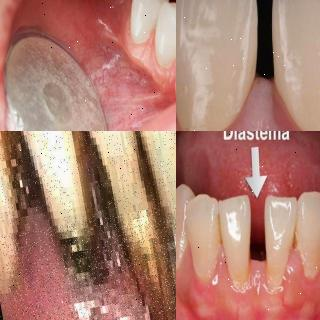calculus: (32, 136, 98, 300), (116, 172, 176, 320), (0, 130, 60, 243)
stains: (282, 227, 308, 266), (209, 212, 233, 252)
